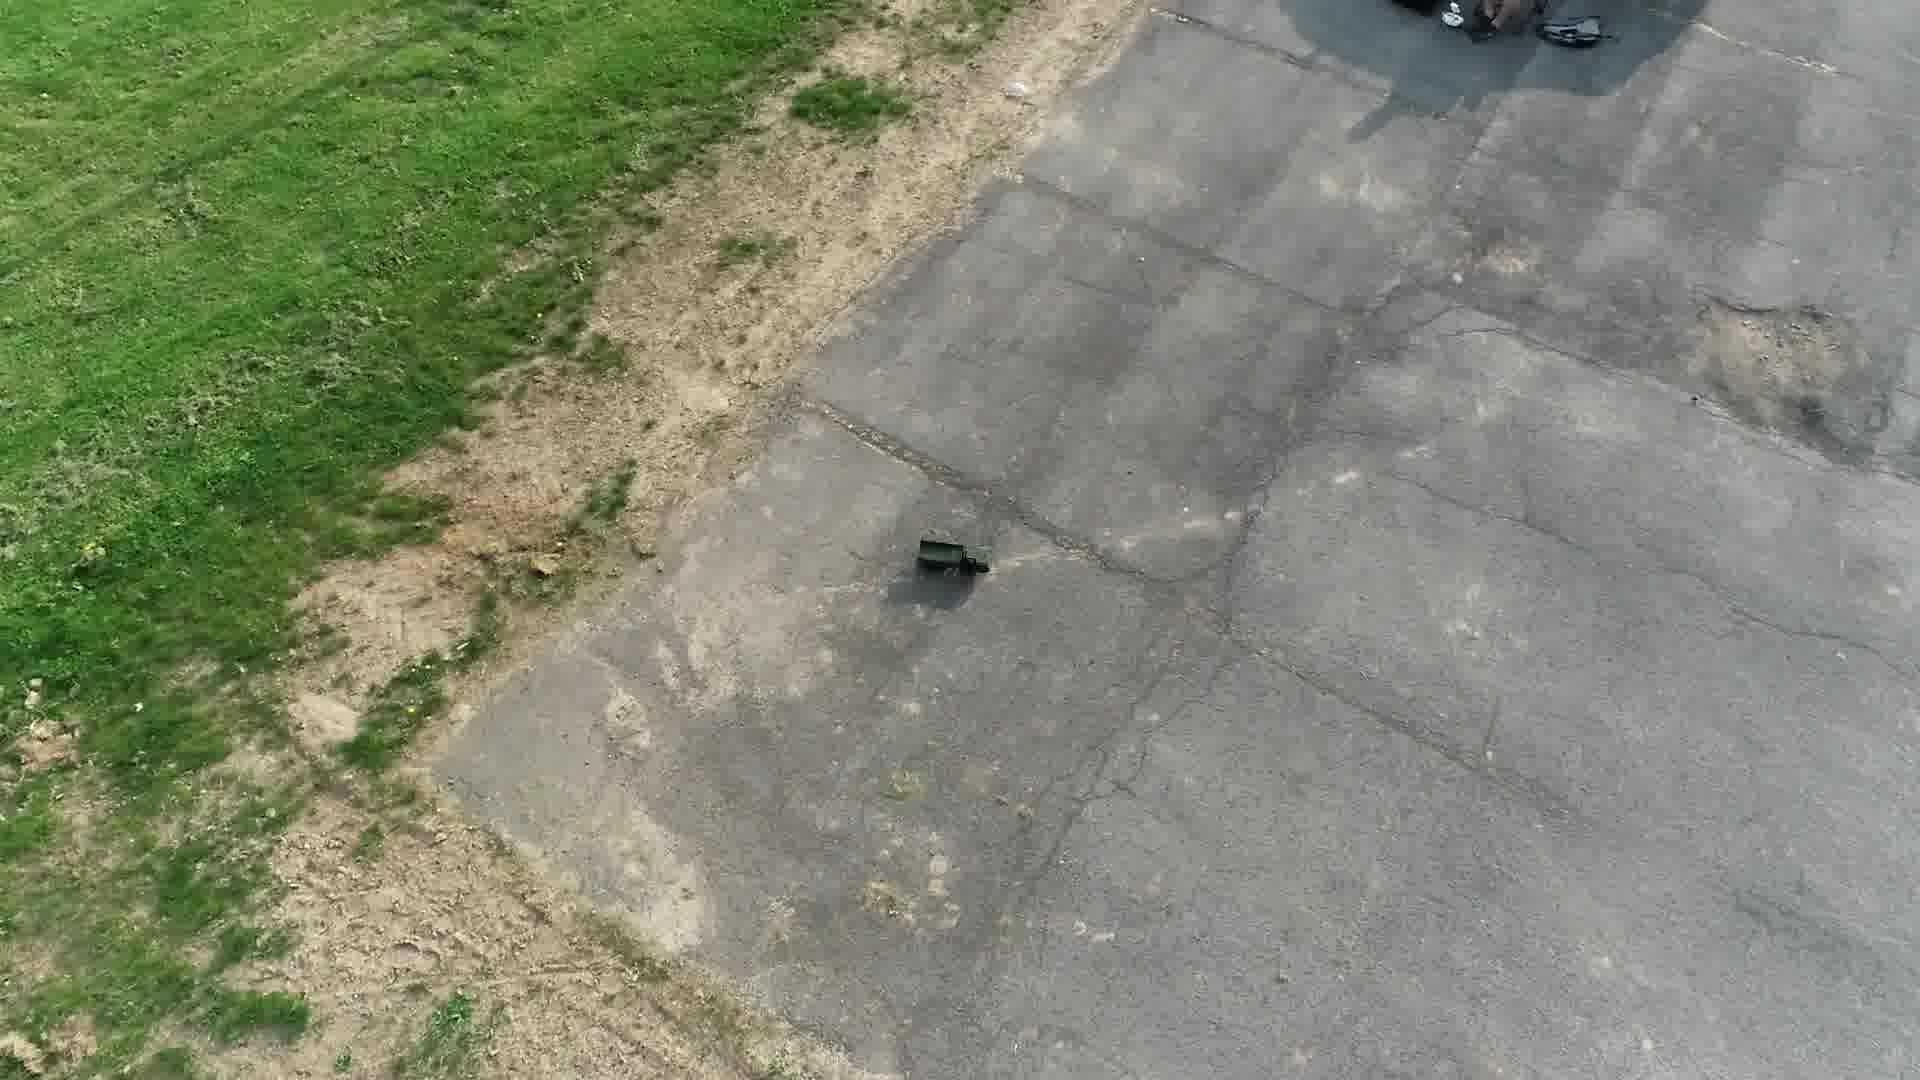transporter9: (914, 535, 996, 579)
